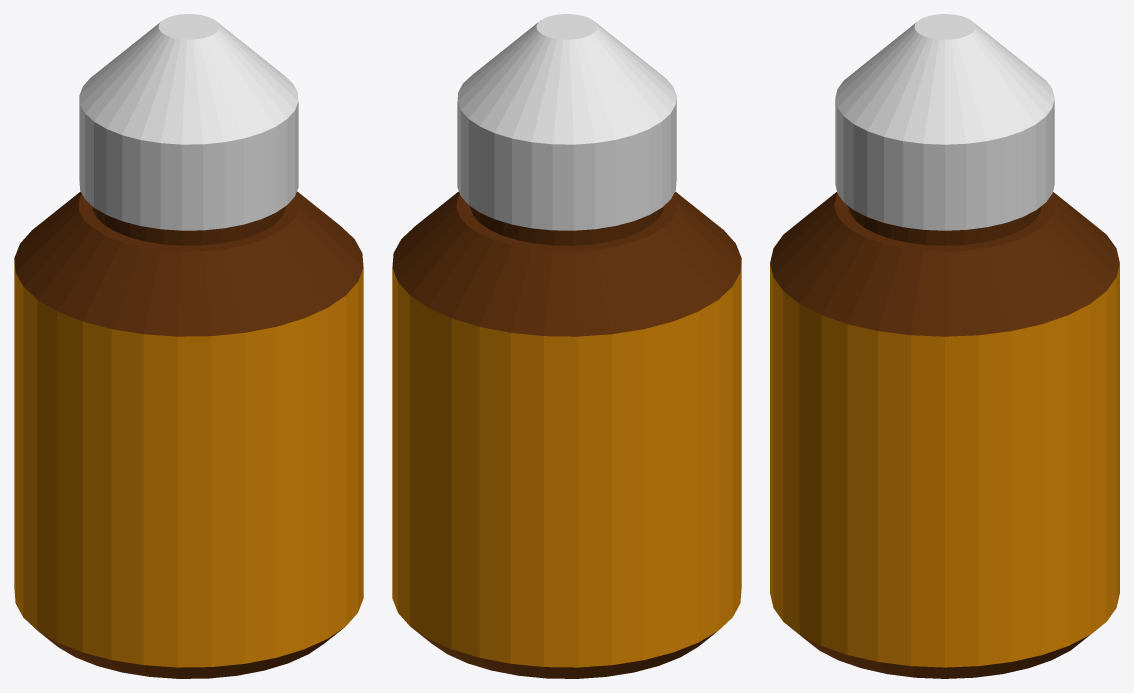
File: Iodine.fbx
3 renders of one model, left to right at view 1: azimuth 30°, elevation 25°; view 2: azimuth 150°, elevation 25°; view 3: azimuth 270°, elevation 25°, orthographic.
Visible parts, largest first — view 1: Cylinder; view 2: Cylinder; view 3: Cylinder.
Boxes of the visible parts, left/top/right/bottom form: Cylinder: left=14, top=14, right=363, bottom=678; Cylinder: left=392, top=14, right=741, bottom=678; Cylinder: left=770, top=14, right=1119, bottom=678.
Size of the model in its own units: 40 by 74.22 by 40.
